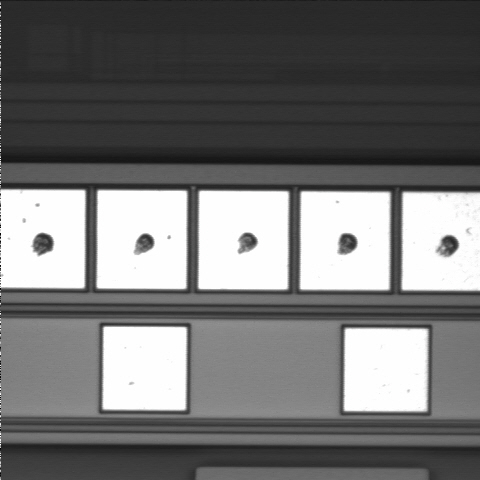pad: (198, 191, 289, 289), (97, 190, 187, 289), (300, 192, 390, 290), (103, 327, 187, 410), (344, 329, 428, 411)
